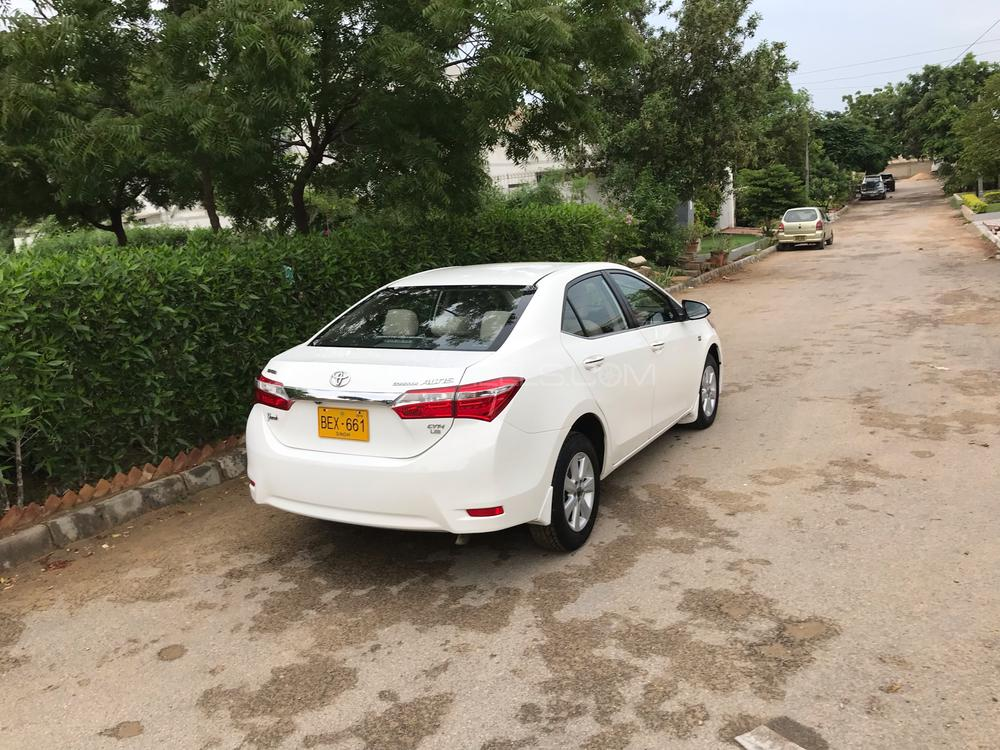license plate: (316, 405, 367, 442)
